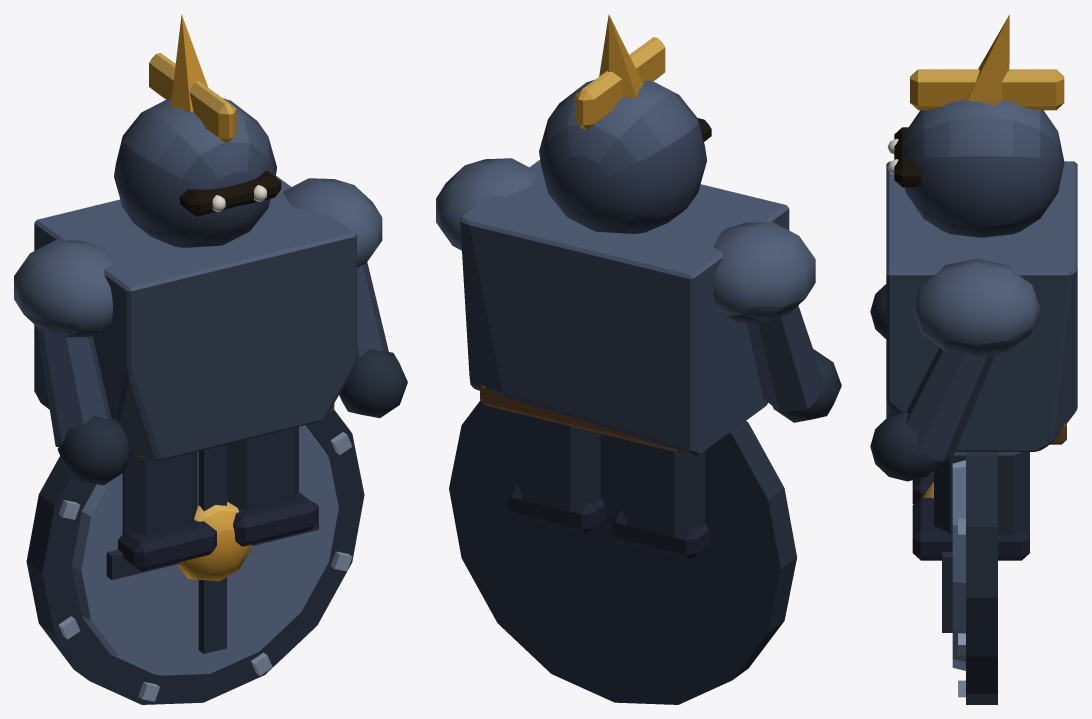
File: porte-bouclier.glb
The picture shows the model from 3 angles, left to right: view 1: azimuth 30°, elevation 25°; view 2: azimuth 150°, elevation 25°; view 3: azimuth 270°, elevation 25°; orthographic projection. The views are drawn at different scales.
Parts seen in each view (by area): view 1: corps.012, bouclier.001; view 2: corps.012, bouclier.001; view 3: corps.012, bouclier.001.
Boxes of the visible parts, x1=… form: corps.012: x1=14, y1=14, x2=407, y2=571; bouclier.001: x1=26, y1=409, x2=364, y2=704; corps.012: x1=436, y1=14, x2=841, y2=559; bouclier.001: x1=449, y1=400, x2=796, y2=704; corps.012: x1=870, y1=14, x2=1077, y2=560; bouclier.001: x1=922, y1=452, x2=997, y2=704.
Bounding box in the file's own units: 1.52 × 2.79 × 0.78.
